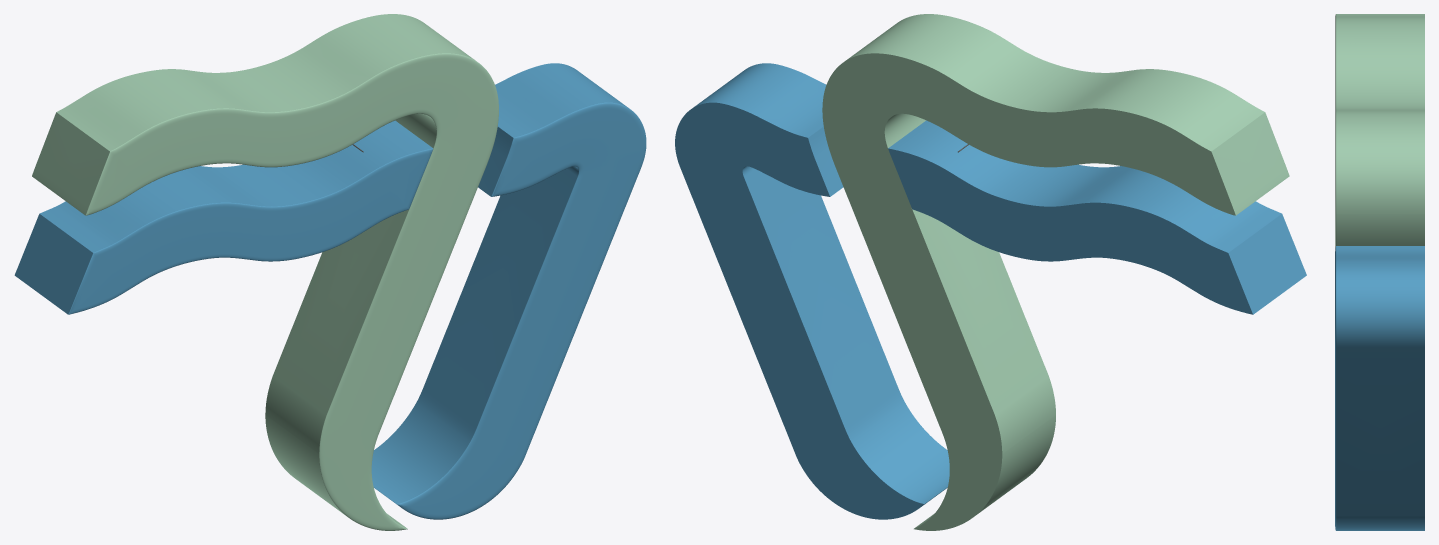
File: Iso.gltf
3 views of the same model, side by side, from view 1: azimuth 30°, elevation 25°; view 2: azimuth 150°, elevation 25°; view 3: azimuth 270°, elevation 25° (orthographic). The views are drawn at different scales.
Bounding box in the file's own units: 0.3518 × 0.2728 × 0.0574.
